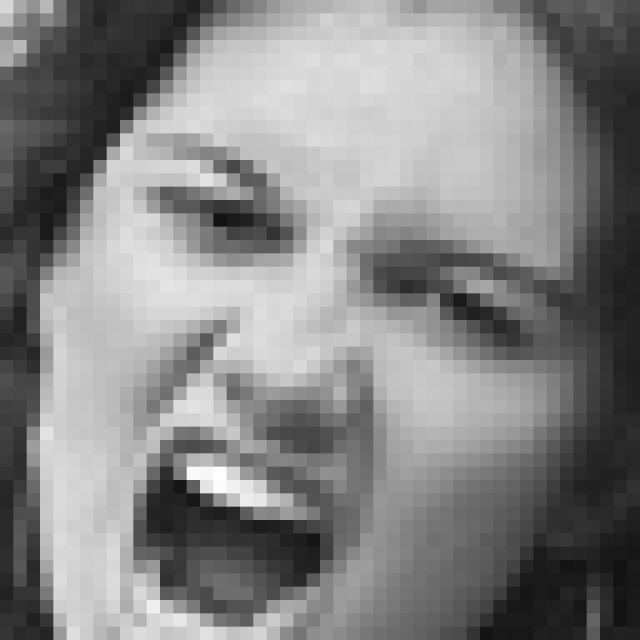angry: (121, 131, 574, 640)
